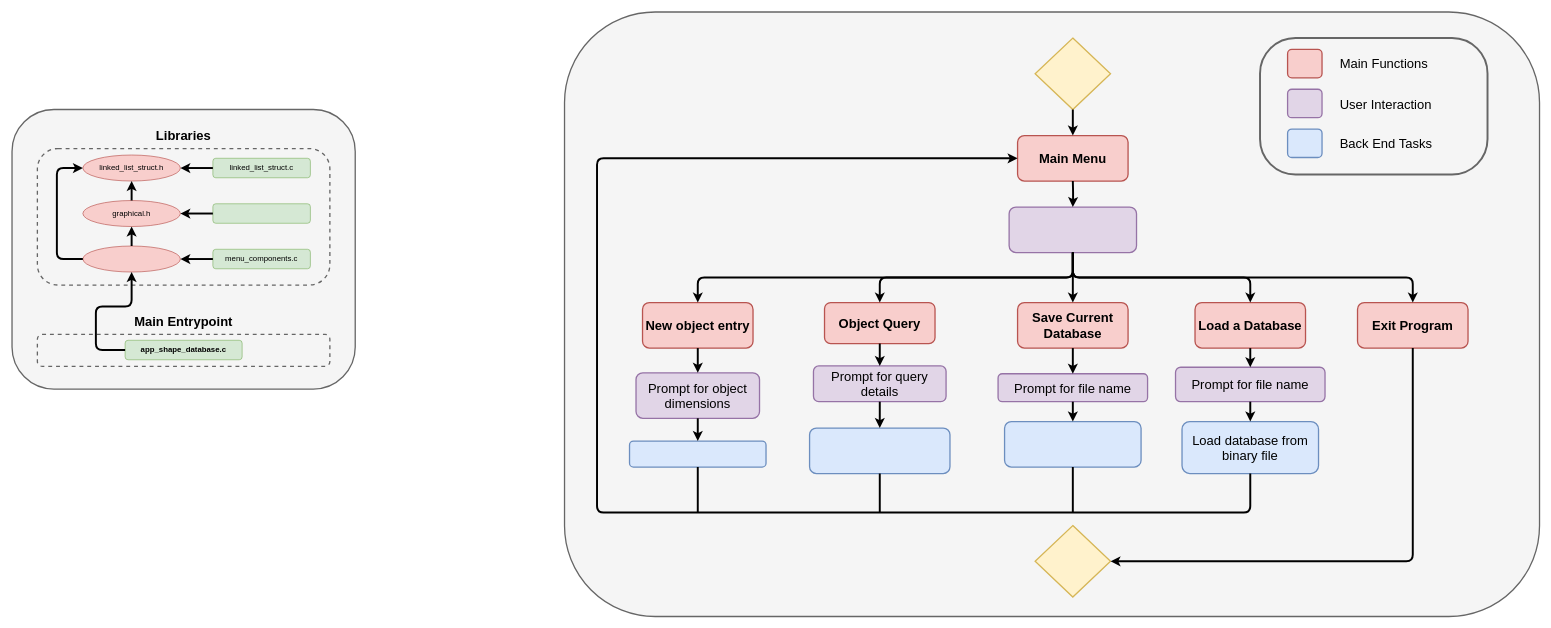
The diagram is 1551 pixels wide and 628 high, and some of its shapes have lost their labels. Each missing label, with the box of its shape:
Display queried statistics: (809, 427, 950, 474)
END: (1034, 525, 1111, 597)
graphical.c: (212, 203, 310, 223)
menu_components.h: (82, 245, 180, 272)
Prompt for user selection: (1008, 206, 1137, 253)
Save database to a binary file: (1004, 421, 1141, 467)
Save new object: (629, 440, 766, 467)
START: (1034, 37, 1111, 110)
